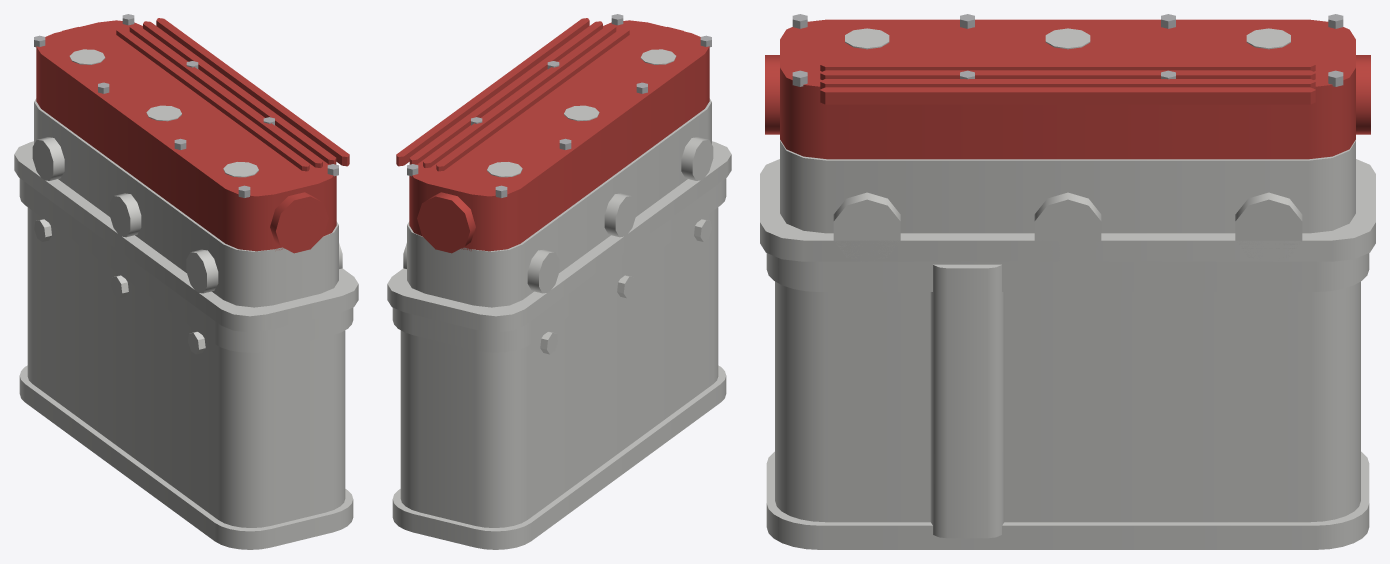
The model's file is hot_cam_lod1.glb.
3 views of the same model, side by side, from view 1: azimuth 30°, elevation 25°; view 2: azimuth 150°, elevation 25°; view 3: azimuth 270°, elevation 25° (orthographic). The views are drawn at different scales.
Parts seen in each view (by area): view 1: hot_cam_lod1; view 2: hot_cam_lod1; view 3: hot_cam_lod1.
Boxes of the visible parts, x1,y1,x2,y2 form: hot_cam_lod1: (14,14,358,549); hot_cam_lod1: (387,14,731,549); hot_cam_lod1: (760,14,1375,549).
Bounding box in the file's own units: 0.128 × 0.3043 × 0.368.
